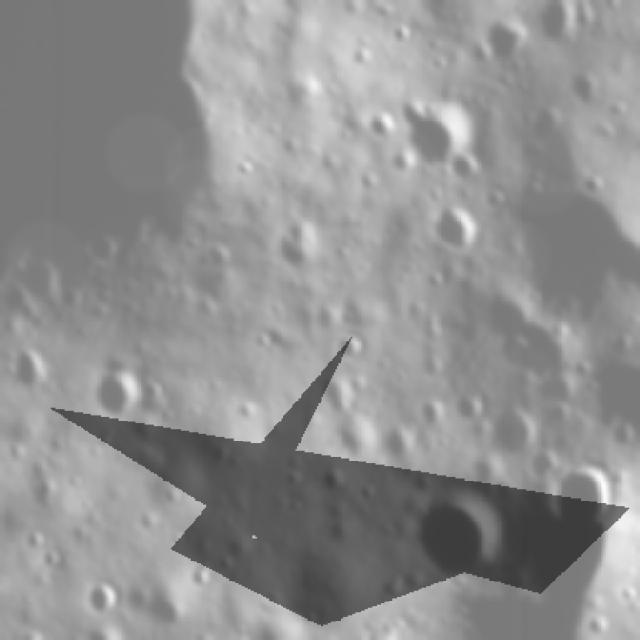crater: (504, 140, 640, 319), (404, 488, 504, 584), (534, 465, 620, 546), (397, 88, 471, 172), (424, 198, 488, 264), (85, 362, 149, 428), (473, 13, 536, 76), (486, 407, 539, 468), (529, 0, 582, 51), (81, 577, 130, 625), (243, 607, 300, 640), (451, 394, 489, 432), (328, 328, 366, 366), (448, 152, 484, 188)
